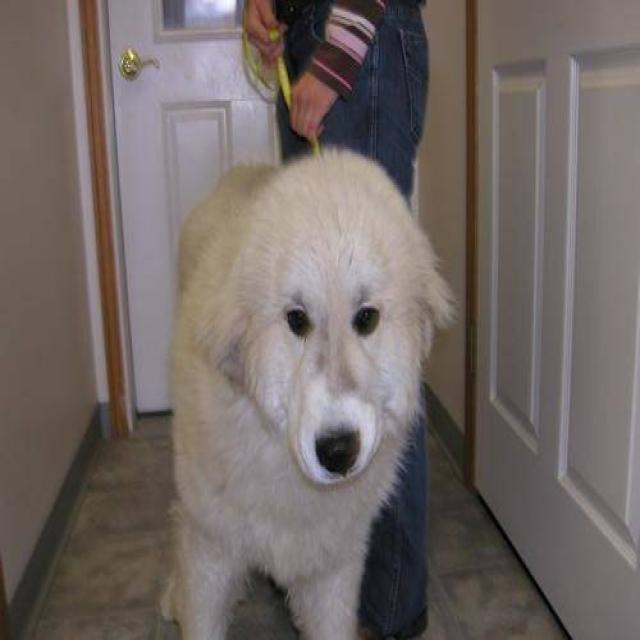dog: (158, 144, 458, 638)
